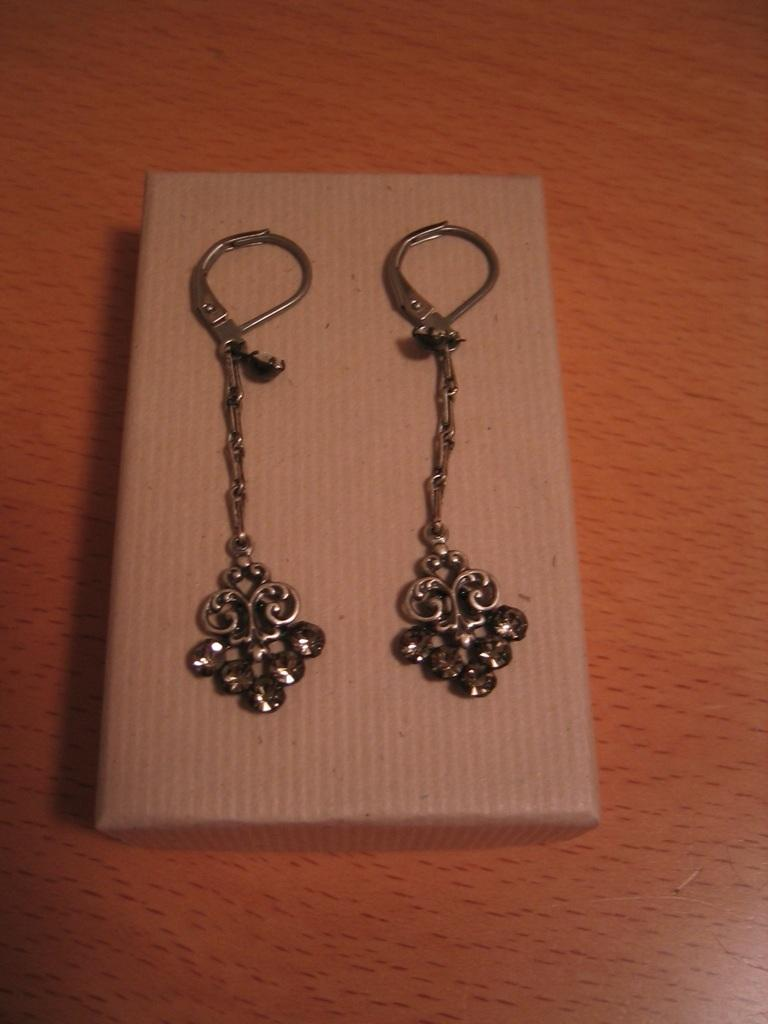earring: (384, 224, 526, 701), (190, 231, 313, 708)
